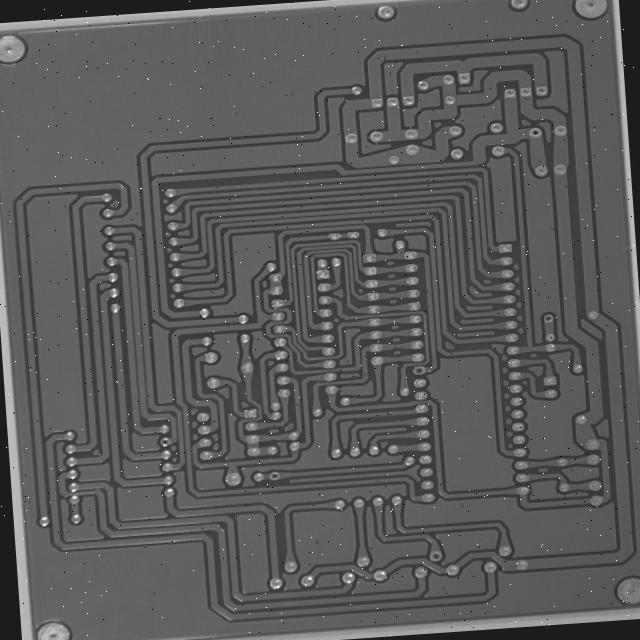missing_hole: (476, 537, 496, 554), (295, 451, 313, 469), (458, 337, 478, 352), (605, 282, 622, 295), (174, 417, 192, 429)
